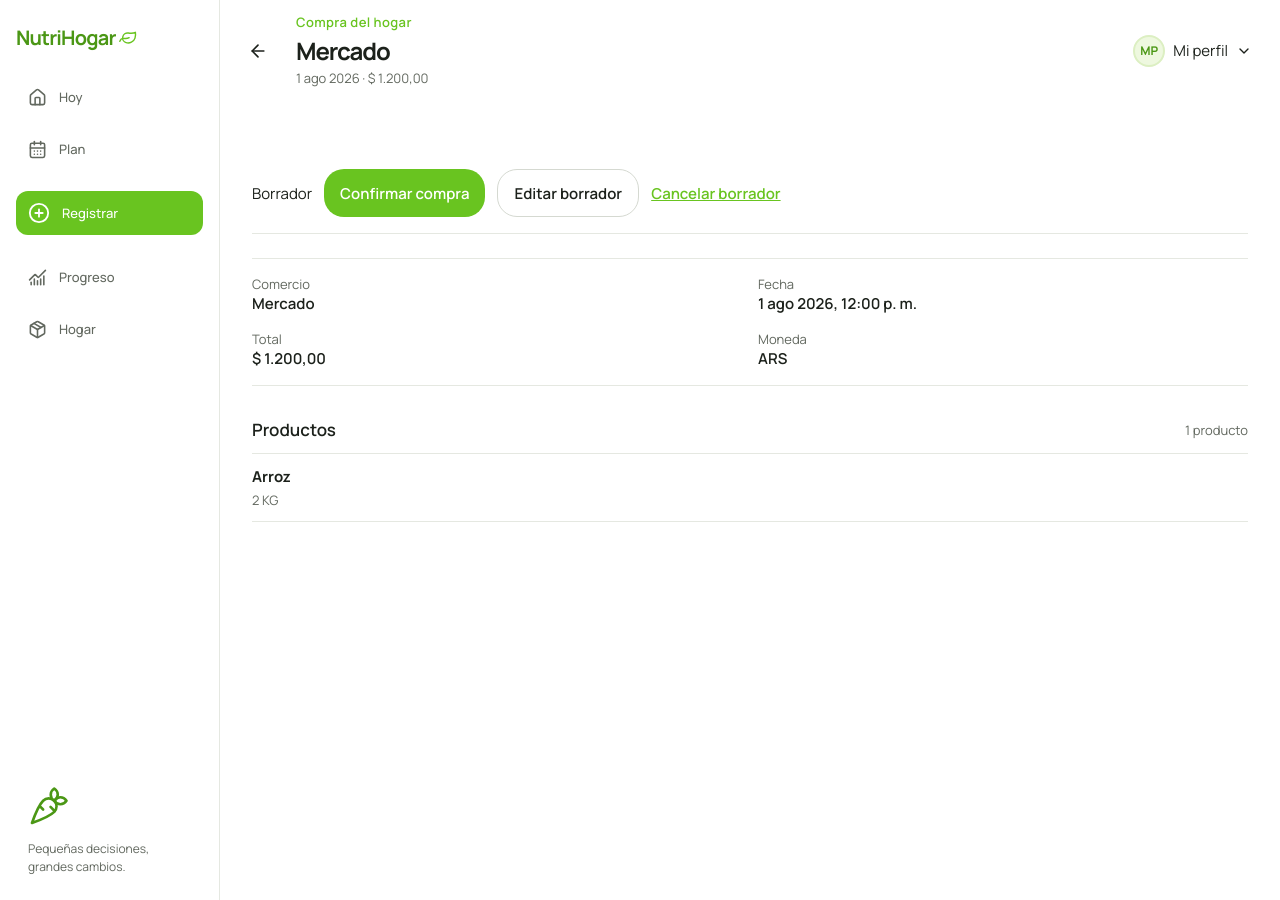
it: Purchase pages › previews inventory effects before confirming a purchase
The width and height of the screenshot is (1280, 900).
Click the button "Confirmar compra": (405, 193) [324,169,486,217]
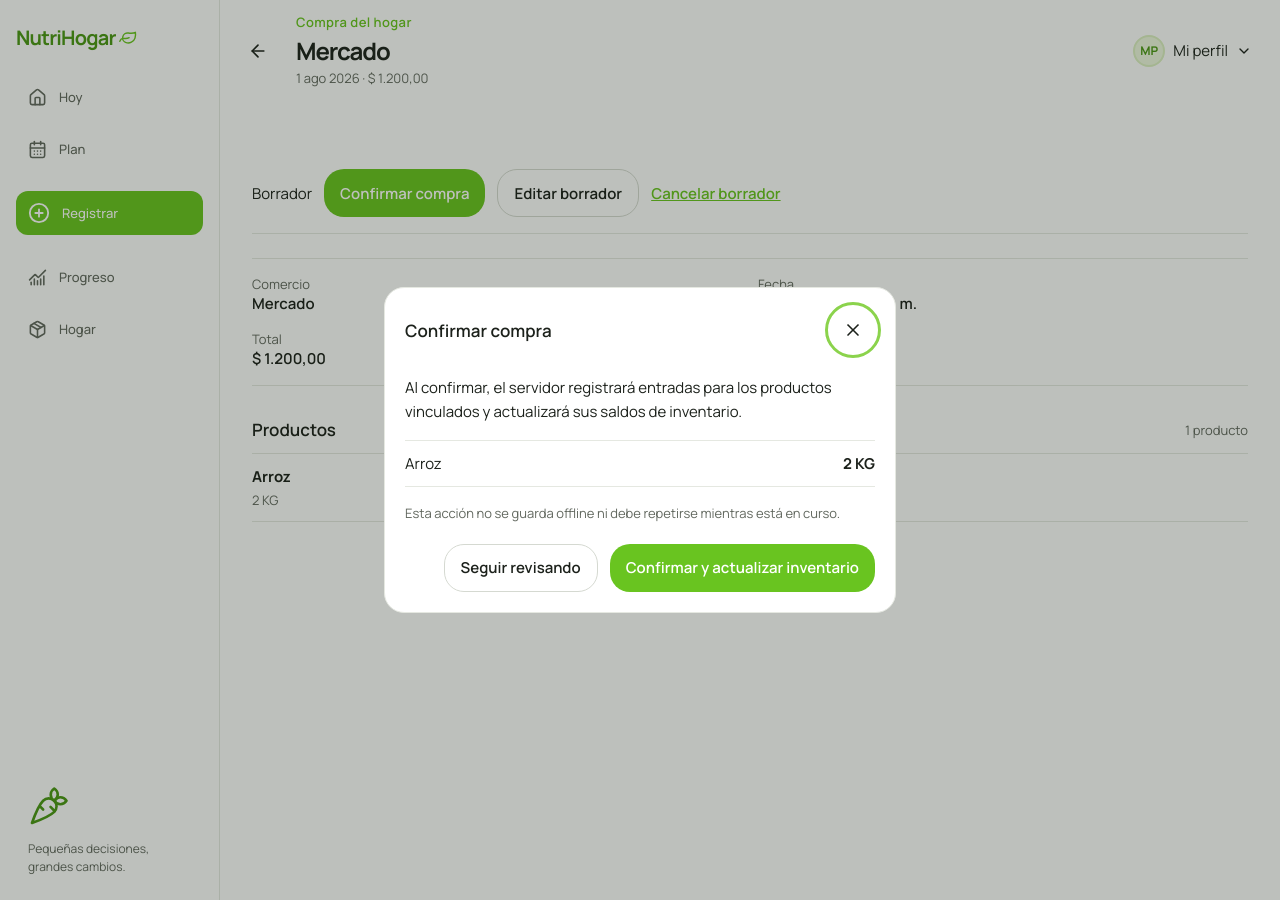
Expected: the text "actualizará sus saldos de inventario" is shown, [405,377,832,422]
Click the button "Confirmar y actualizar inventario": (742, 568) [610,544,875,592]
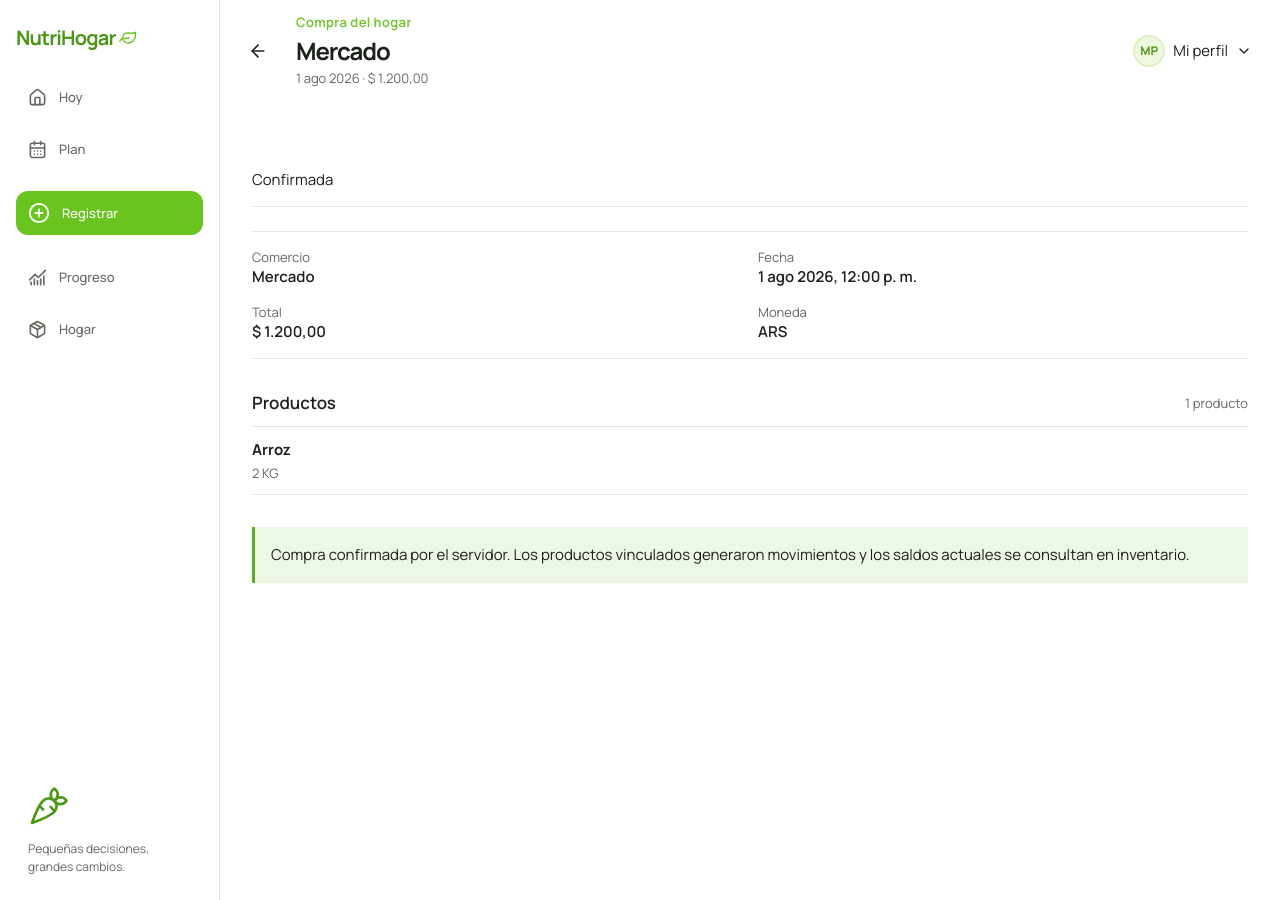
Expected: the text "Compra confirmada por el servidor" is shown, [271,544,1190,565]
